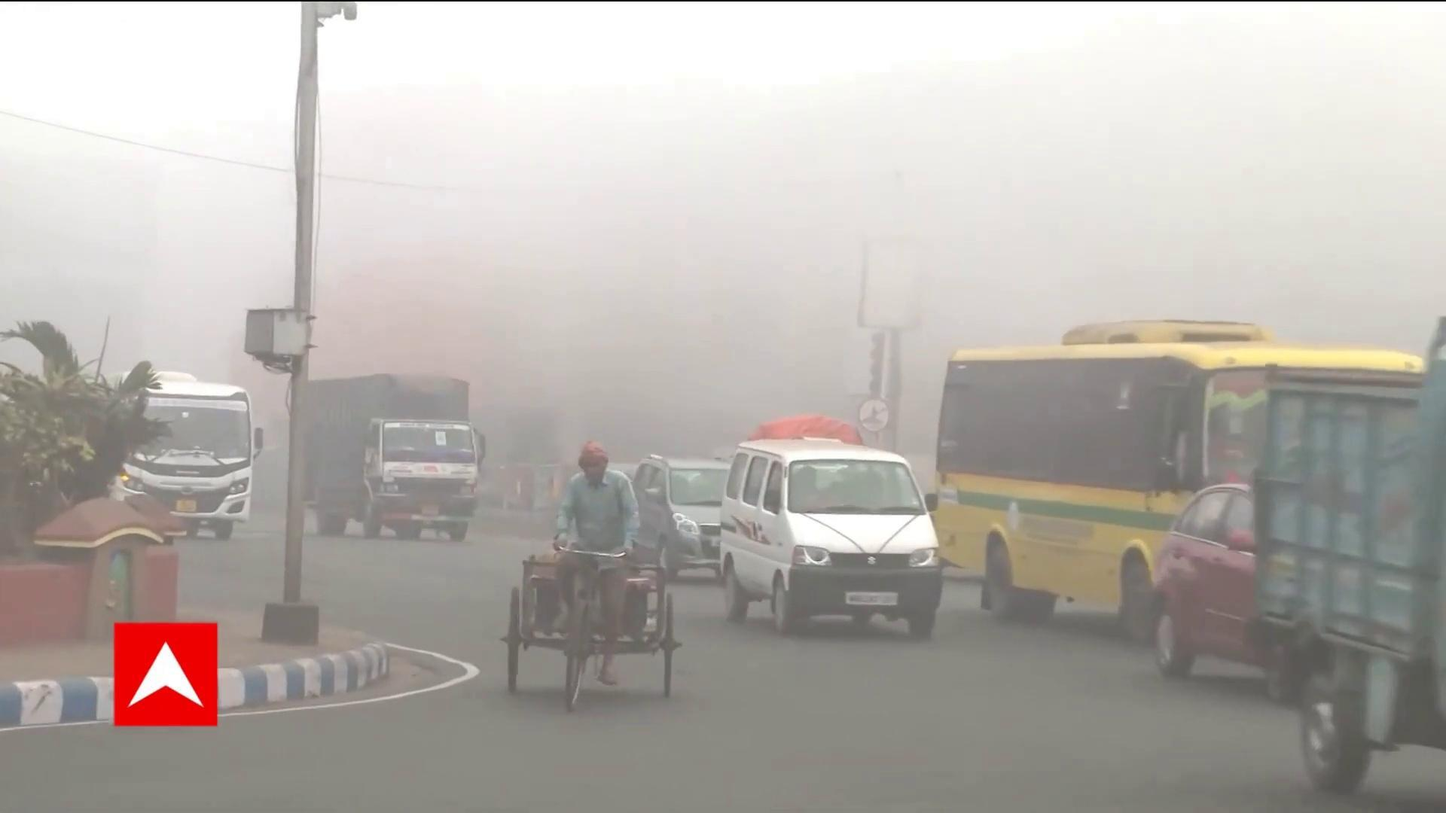Bus: (941, 307, 1396, 612), (121, 362, 255, 536)
Car: (718, 423, 943, 642), (621, 443, 737, 572)
Truck: (309, 372, 484, 539)
